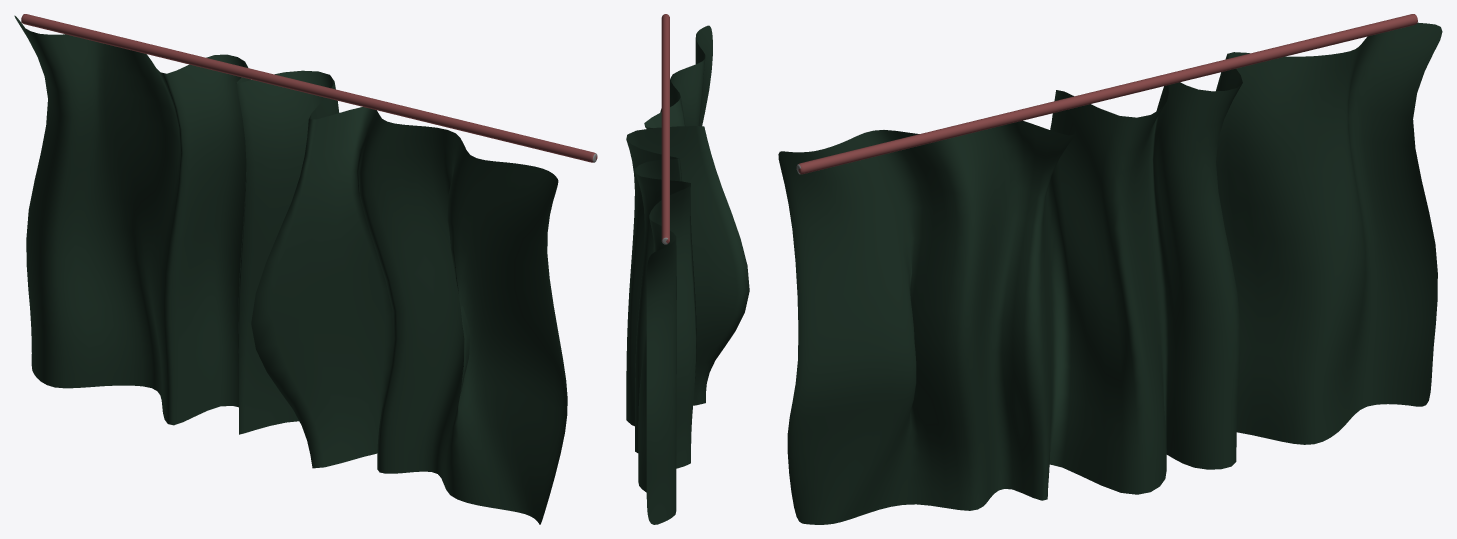
Rendered from Curtain.fbx.
The picture shows the model from 3 angles, left to right: view 1: azimuth 30°, elevation 25°; view 2: azimuth 150°, elevation 25°; view 3: azimuth 270°, elevation 25°; orthographic projection. The views are drawn at different scales.
Visible parts, largest first — view 1: Curtain (×2); view 2: Curtain (×2); view 3: Curtain (×2).
Part boxes in pixels (x1,y1,x2,y2): Curtain (×2): (14,14,597,524); Curtain (×2): (626,14,749,524); Curtain (×2): (778,14,1442,524).
Size of the model in its own units: 6.71 by 7.87 by 12.21.
